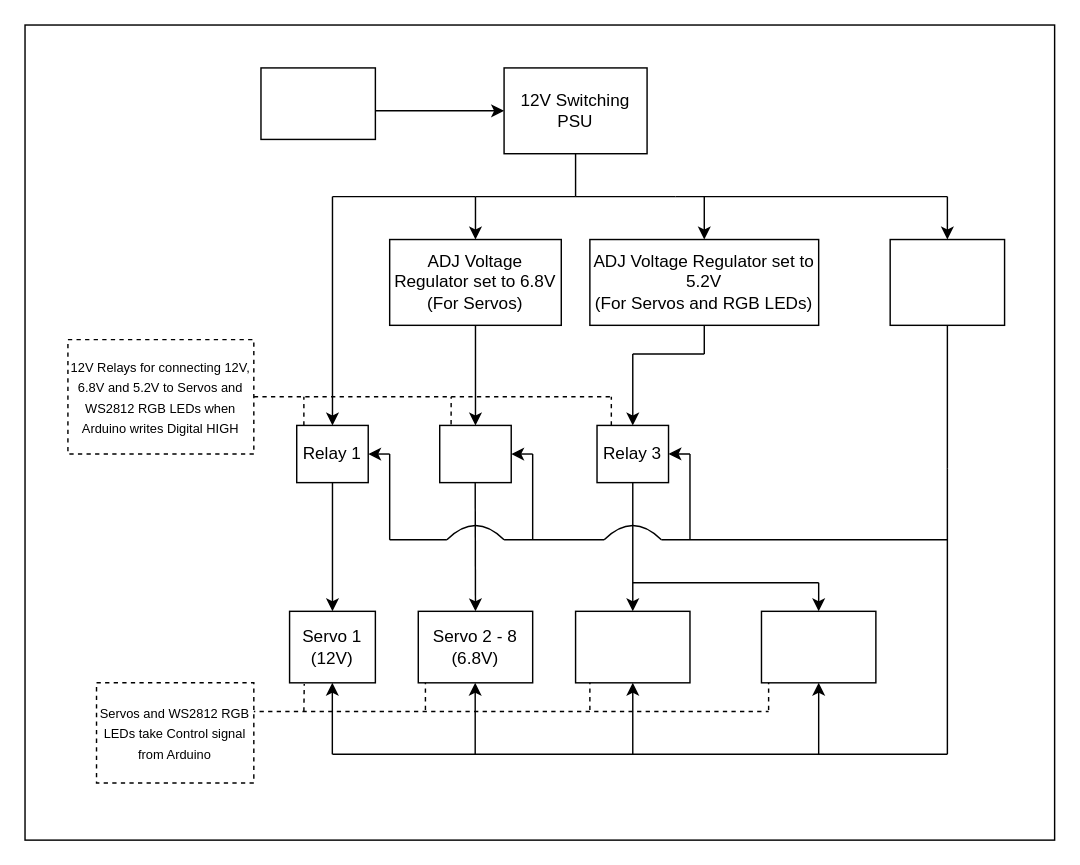
This 1080x865 diagram has some shape labels left out. The shapes that lost their labels are listed below. From the top down, each one's centre as x and y in pixels, then its label:
At point 317,102: "AC Input".
At point 947,281: "Arduino Mega 2560".
At point 474,453: "Relay 2".
At point 632,646: "Servo 9 - 12 (5.2V)".
At point 818,646: "WS2812 RGB LEDs (5.2V)".
